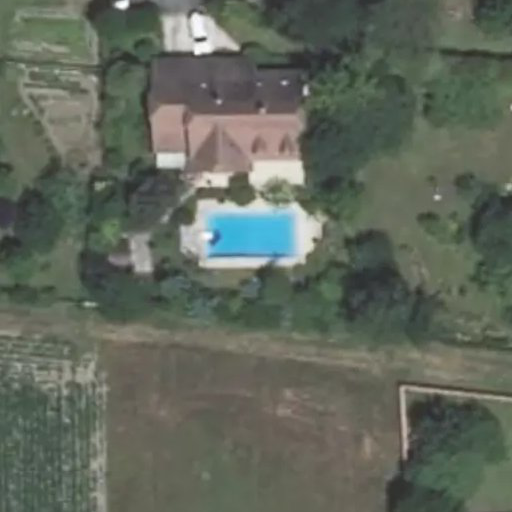pool: (189, 204, 311, 265)
